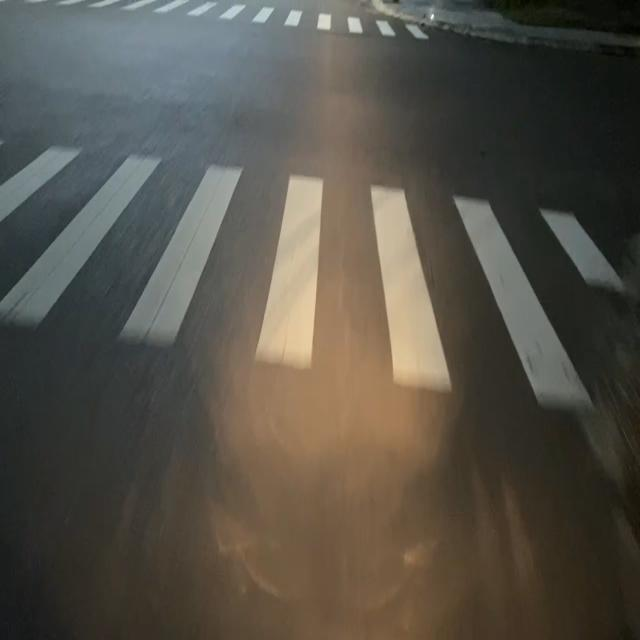walk-crossing: (0, 139, 621, 416), (39, 0, 432, 43)
